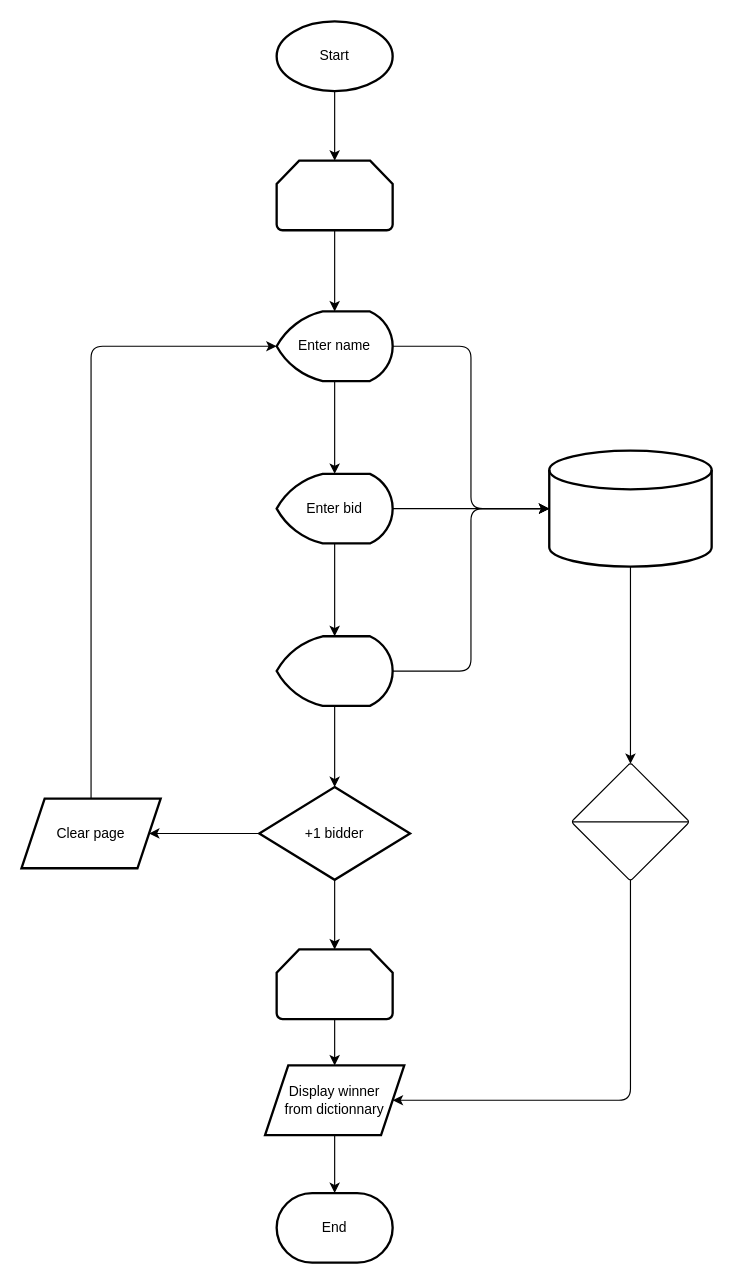
This 732x1283 diagram has some shape labels left out. The shapes that lost their labels are listed below. From the top down, each one's centre as x and y in pixels, then its label:
At (x=334, y=195): "Enter loop".
At (x=630, y=508): "Store in dictionary".
At (x=334, y=670): "Enter if other bidders".
At (x=334, y=984): "End loop".
